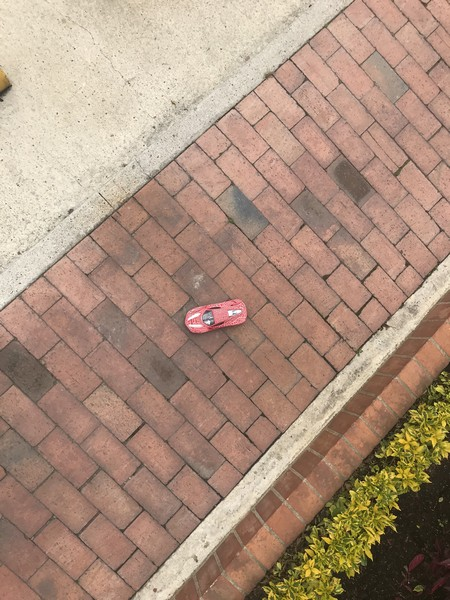RC: (183, 299, 249, 333)
